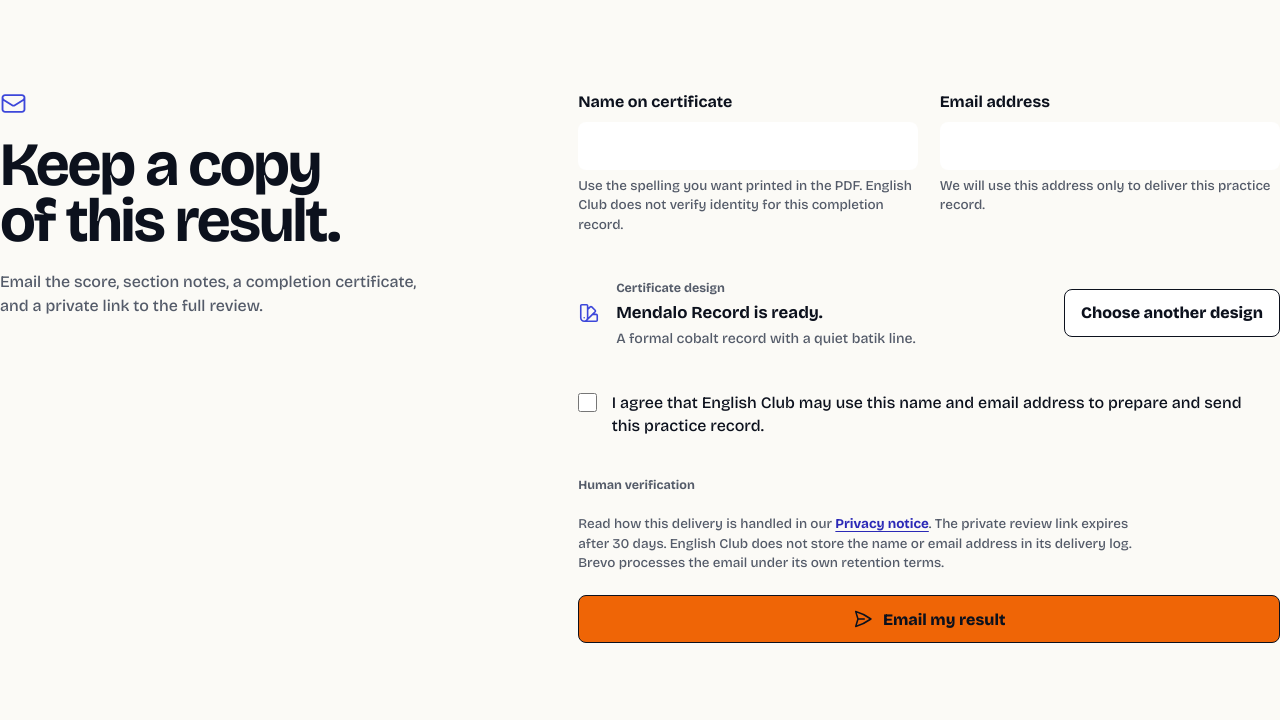
Test: ResultEmailDelivery › keeps the Mendalo default visible and offers exactly three optional designs
Expected: the text "Mendalo Record is ready." is shown, [616,302,823,323]
Click the button "Choose another design": x=1172, y=313 [1064,289,1279,337]
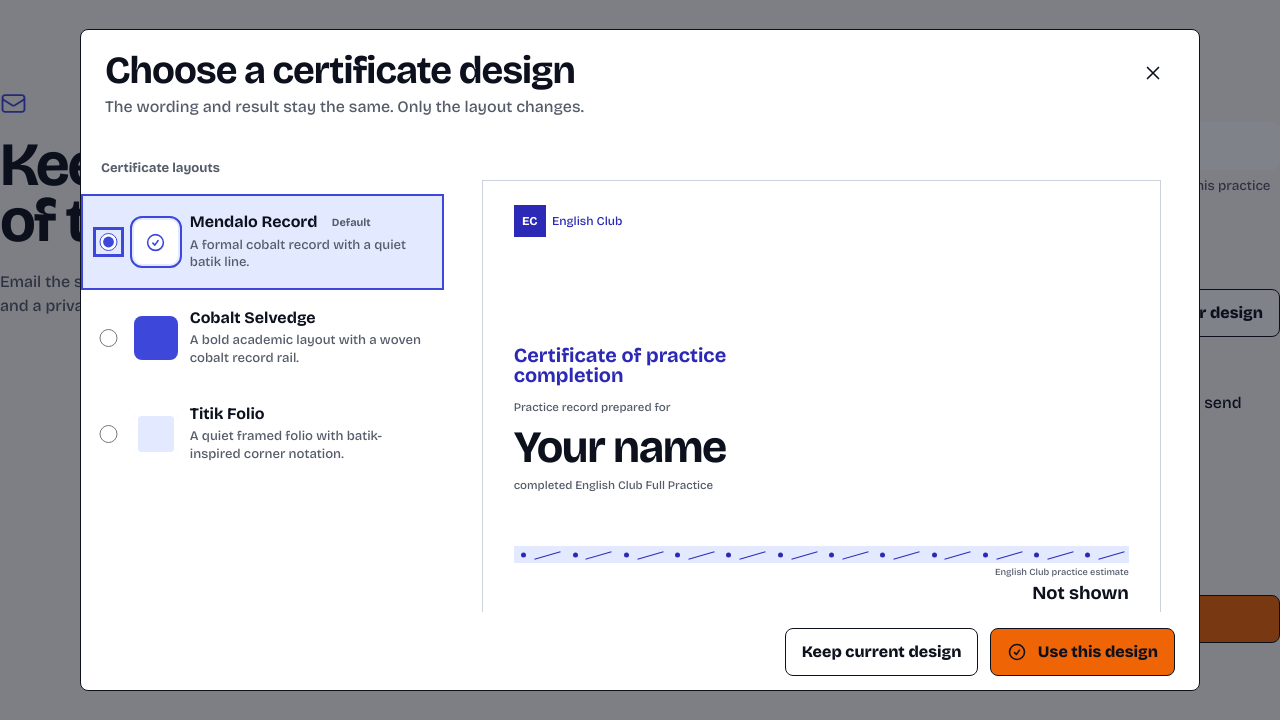
Expected: the number of radio buttons is 3
Expected: the radio button labelled "Mendalo Record" is checked, [99,233,118,251]
Click the radio button labelled "Cobalt Selvedge": x=109, y=338 [99,329,118,347]
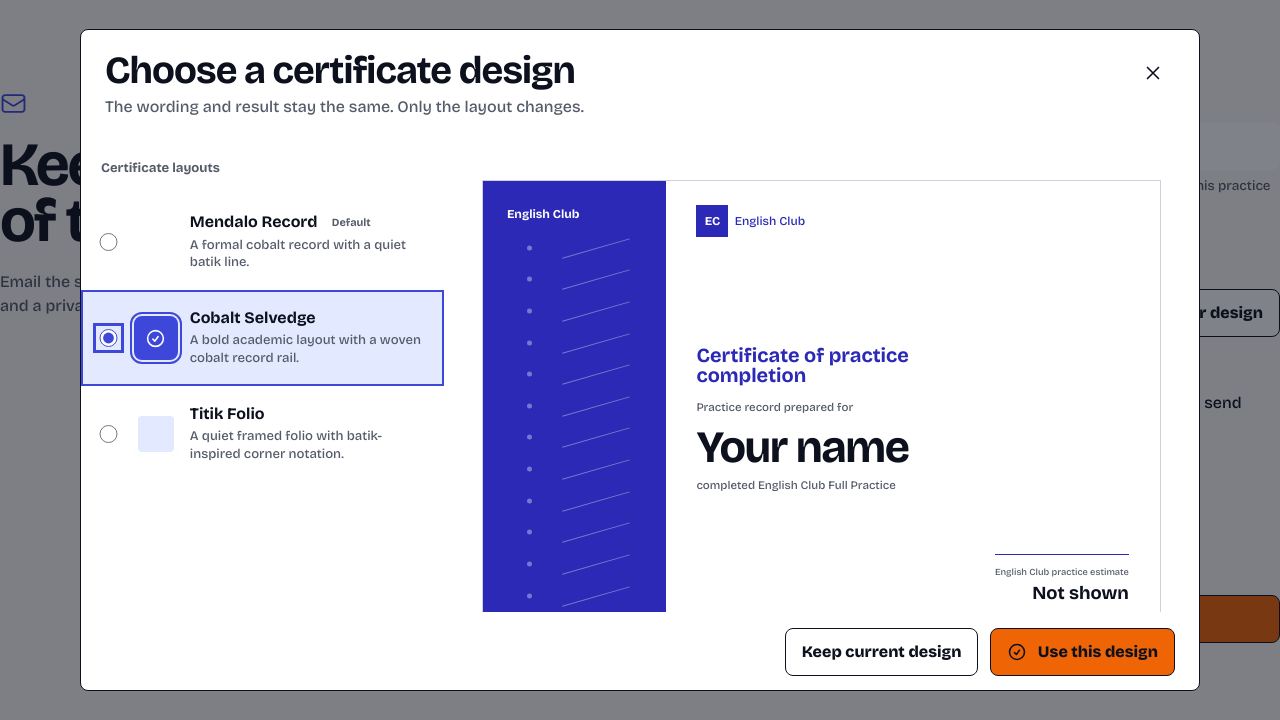
Click the button "Use this design": x=1083, y=652 [990,628,1175,676]
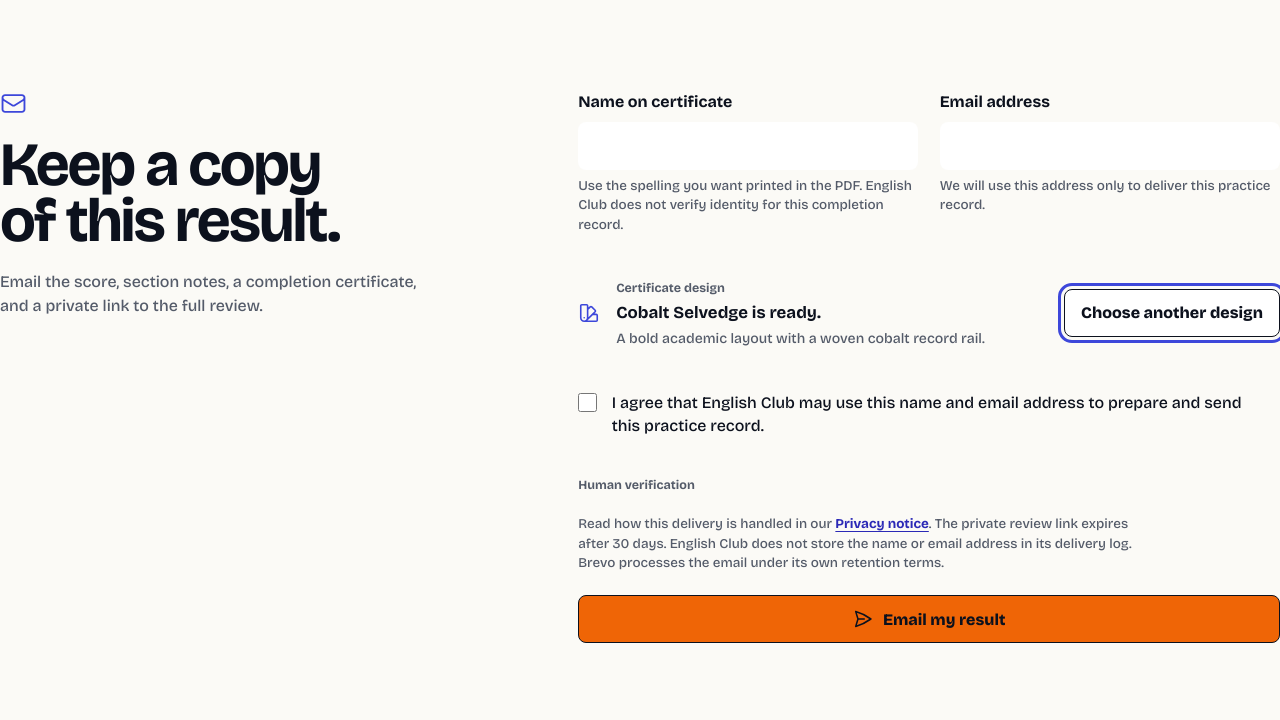
Expected: the dialog is gone
Expected: the text "Cobalt Selvedge is ready." is shown, [616,302,821,323]
